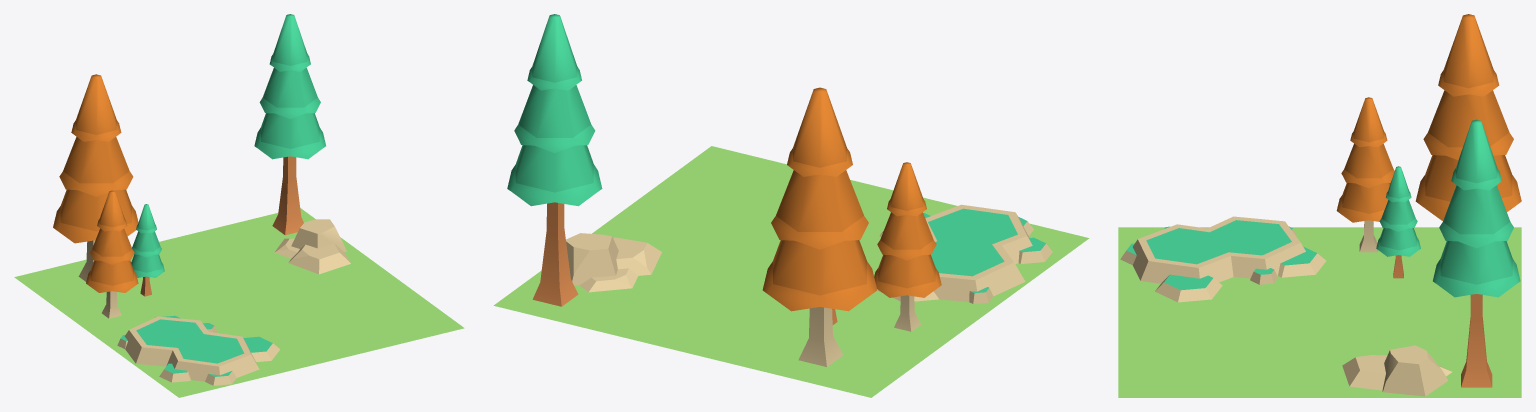
The model's file is customground.glb.
3 renders of one model, left to right at view 1: azimuth 30°, elevation 25°; view 2: azimuth 150°, elevation 25°; view 3: azimuth 270°, elevation 25°, orthographic. The views are drawn at different scales.
Visible parts, largest first — view 1: 평면, treeFall1, tree2, rock2, treeFall2, rock1, tree1; view 2: 평면, treeFall1, tree2, rock2, treeFall2, rock1; view 3: 평면, tree2, rock2, treeFall1, treeFall2, rock1, tree1.
Part boxes in pixels (bbox=[...]): 평면: bbox=[14, 208, 464, 397]; treeFall1: bbox=[53, 74, 138, 281]; tree2: bbox=[254, 14, 325, 235]; rock2: bbox=[117, 315, 279, 385]; treeFall2: bbox=[86, 190, 138, 318]; rock1: bbox=[274, 219, 350, 274]; tree1: bbox=[131, 204, 164, 296]; 평면: bbox=[493, 146, 1089, 397]; treeFall1: bbox=[762, 87, 877, 366]; tree2: bbox=[507, 14, 602, 306]; rock2: bbox=[878, 204, 1052, 303]; treeFall2: bbox=[874, 162, 941, 331]; rock1: bbox=[566, 233, 661, 292]; 평면: bbox=[1118, 227, 1521, 397]; tree2: bbox=[1433, 119, 1520, 387]; rock2: bbox=[1120, 216, 1326, 302]; treeFall1: bbox=[1415, 14, 1521, 220]; treeFall2: bbox=[1336, 97, 1394, 252]; rock1: bbox=[1342, 345, 1451, 396]; tree1: bbox=[1376, 166, 1420, 278].
Bounding box in the file's own units: 2.03 × 1.42 × 2.
